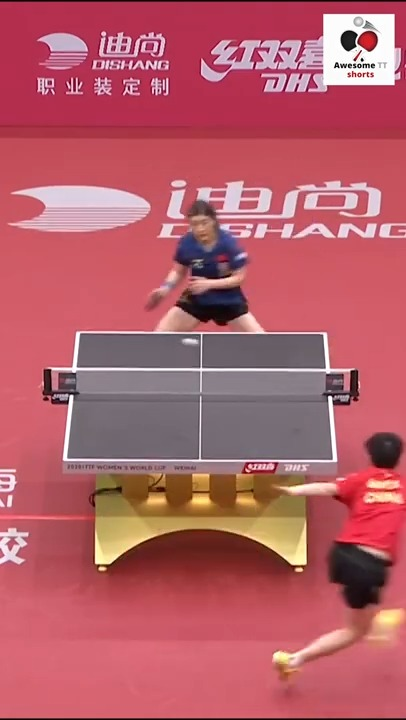Ball: (180, 334, 199, 346)
